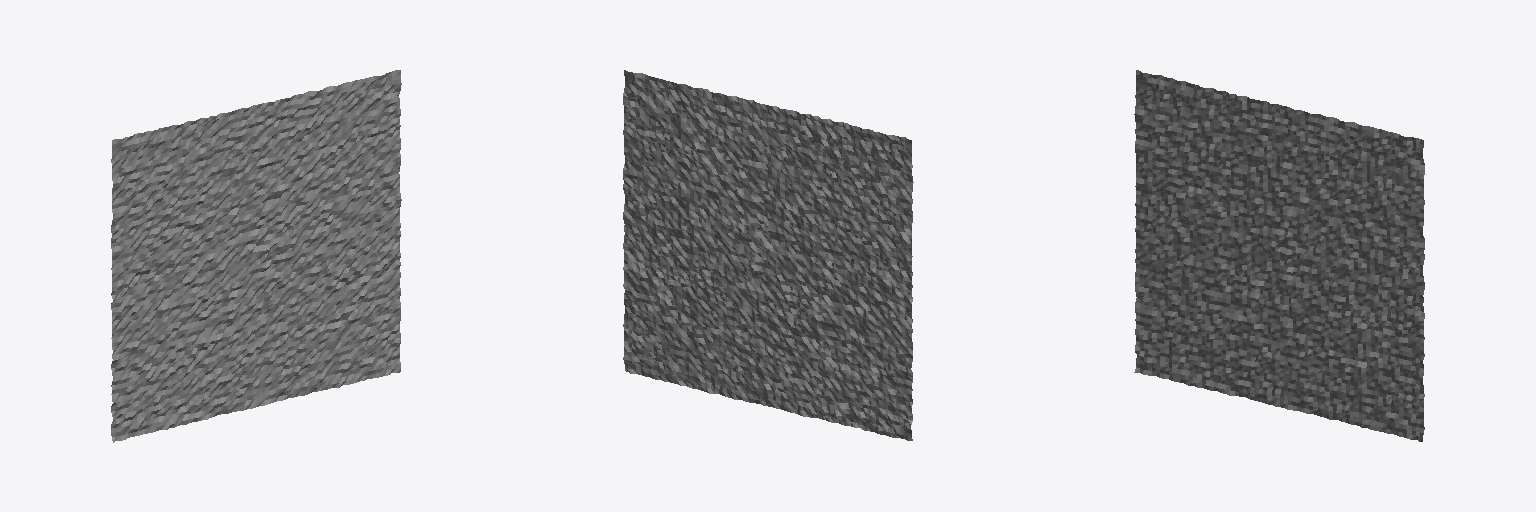
Rendered from terrain.obj.
The picture shows the model from 3 angles: view 1: azimuth 30°, elevation 25°; view 2: azimuth 150°, elevation 25°; view 3: azimuth 330°, elevation 25°; orthographic projection.
Visible parts, largest first — view 1: Plane001; view 2: Plane001; view 3: Plane001.
Part boxes in pixels (left/top/right/bottom): Plane001: left=111, top=70, right=401, bottom=442; Plane001: left=623, top=70, right=913, bottom=440; Plane001: left=1134, top=70, right=1424, bottom=441.
Size of the model in its own units: 60 by 60 by 0.9942.